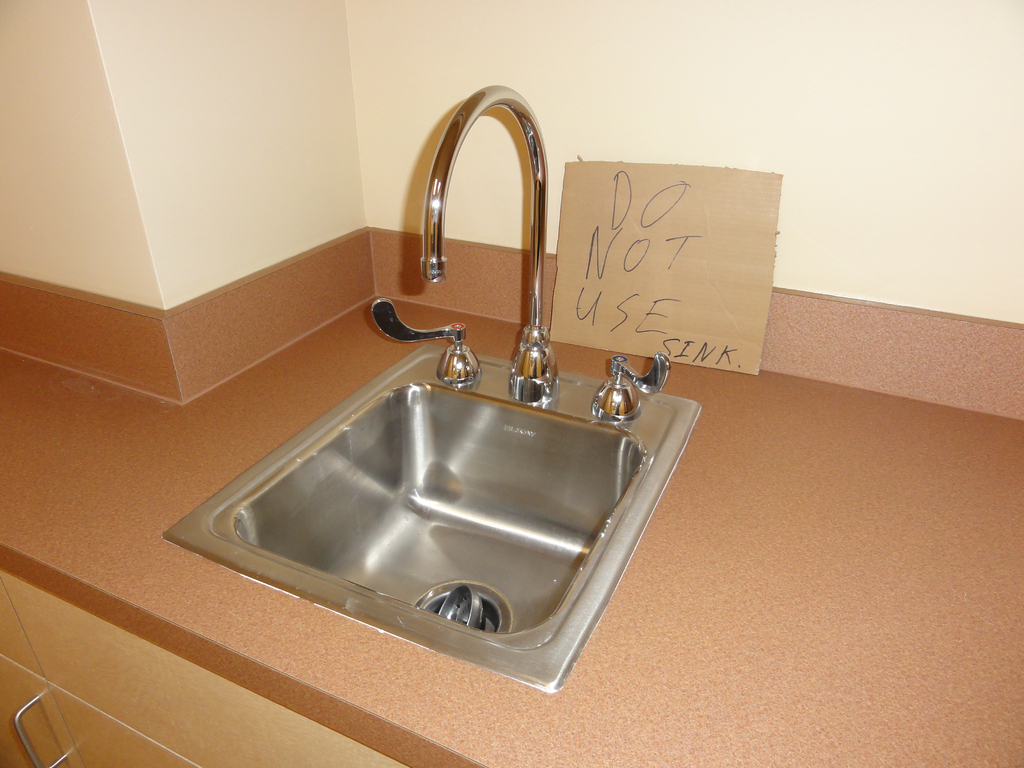tap: (414, 78, 558, 405)
